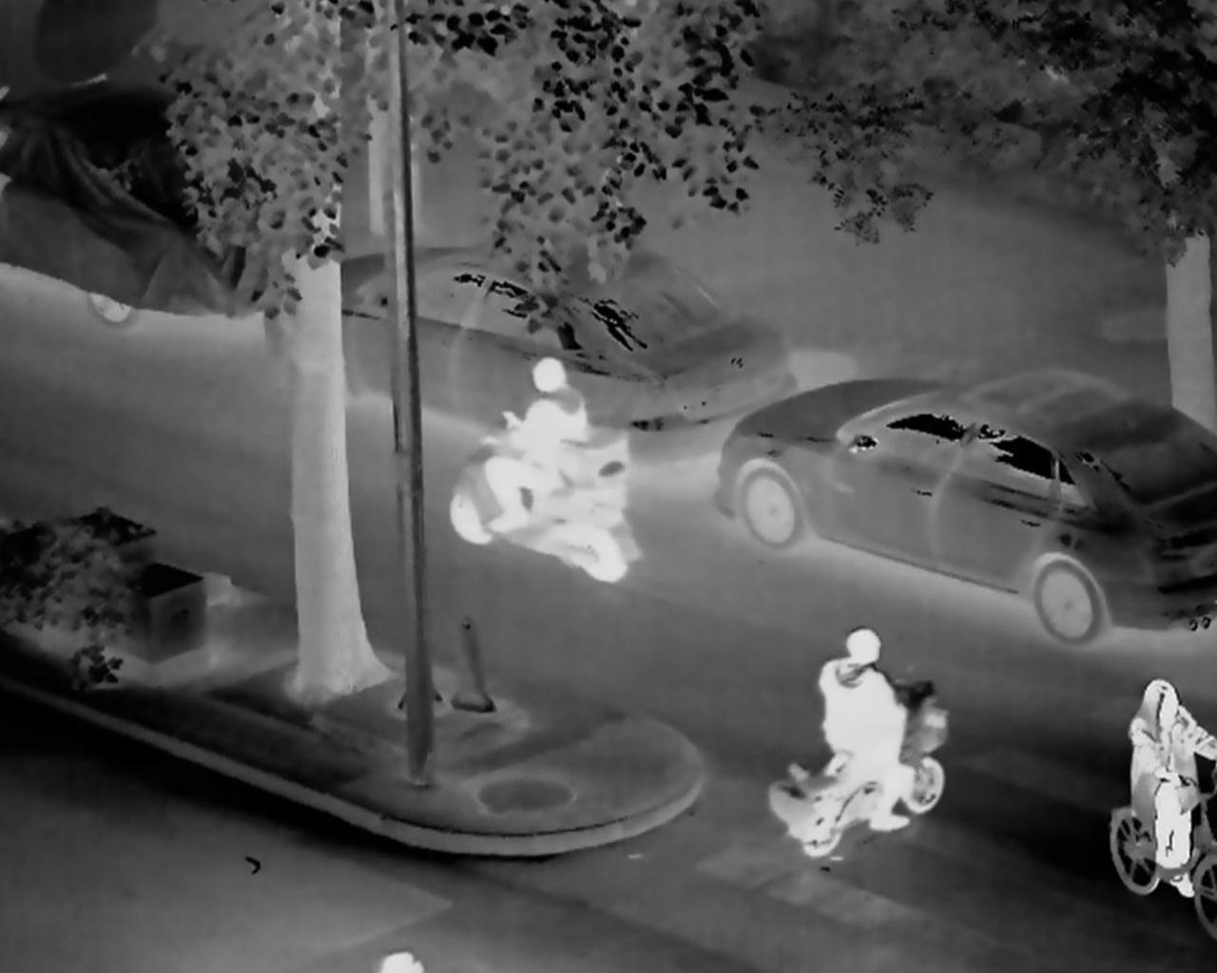person: (763, 628, 960, 874), (455, 346, 601, 549), (1106, 681, 1212, 945), (379, 944, 422, 973)
